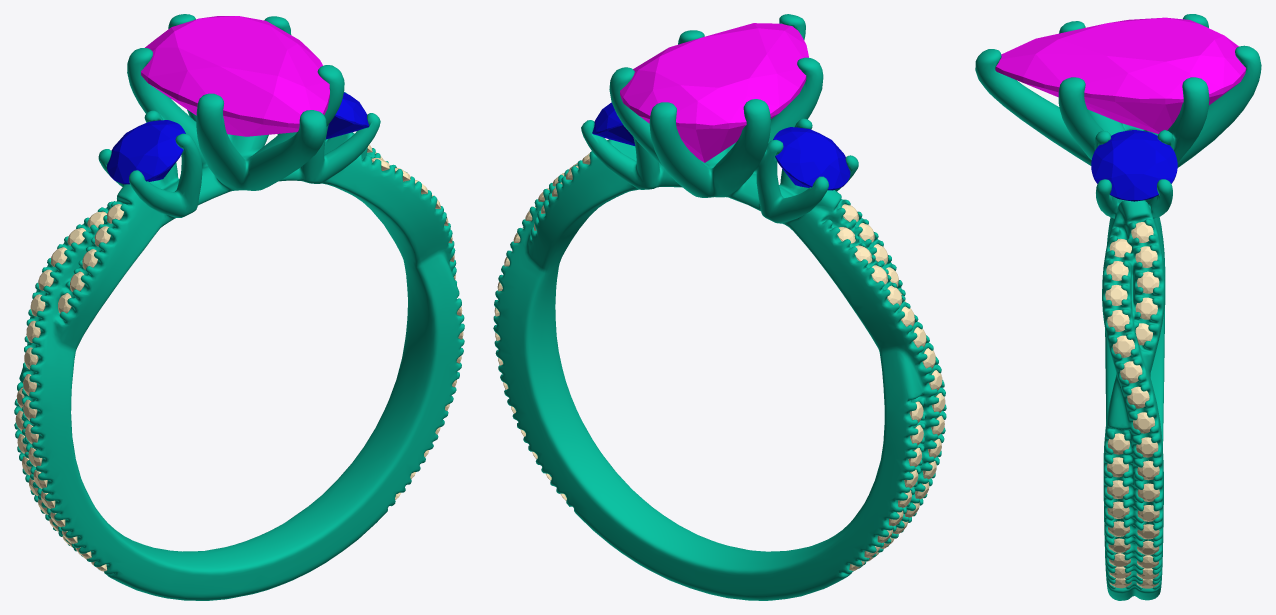
Rendered from BE1D3055_PE_200ct_RENDER.glb.
3 renders of one model, left to right at view 1: azimuth 30°, elevation 25°; view 2: azimuth 150°, elevation 25°; view 3: azimuth 270°, elevation 25°, orthographic.
Parts seen in each view (by area): view 1: Metal 01, CS_Diamond_Pear, Diamond_Round_side.001, Diamond_Round_side; view 2: Metal 01, CS_Diamond_Pear, Diamond_Round_side.001, Diamond_Round_side; view 3: Metal 01, CS_Diamond_Pear, Diamond_Round_side.
Part boxes in pixels (bbox=[...]): Metal 01: bbox=[14, 14, 464, 600]; CS_Diamond_Pear: bbox=[141, 16, 329, 136]; Diamond_Round_side.001: bbox=[107, 120, 185, 184]; Diamond_Round_side: bbox=[325, 92, 369, 139]; Metal 01: bbox=[493, 14, 946, 600]; CS_Diamond_Pear: bbox=[620, 23, 808, 162]; Diamond_Round_side.001: bbox=[773, 127, 850, 190]; Diamond_Round_side: bbox=[592, 102, 635, 145]; Metal 01: bbox=[975, 14, 1261, 600]; CS_Diamond_Pear: bbox=[995, 17, 1246, 133]; Diamond_Round_side: bbox=[1091, 130, 1177, 201].
Size of the model in its own units: 20.41 by 24.02 by 11.58.
